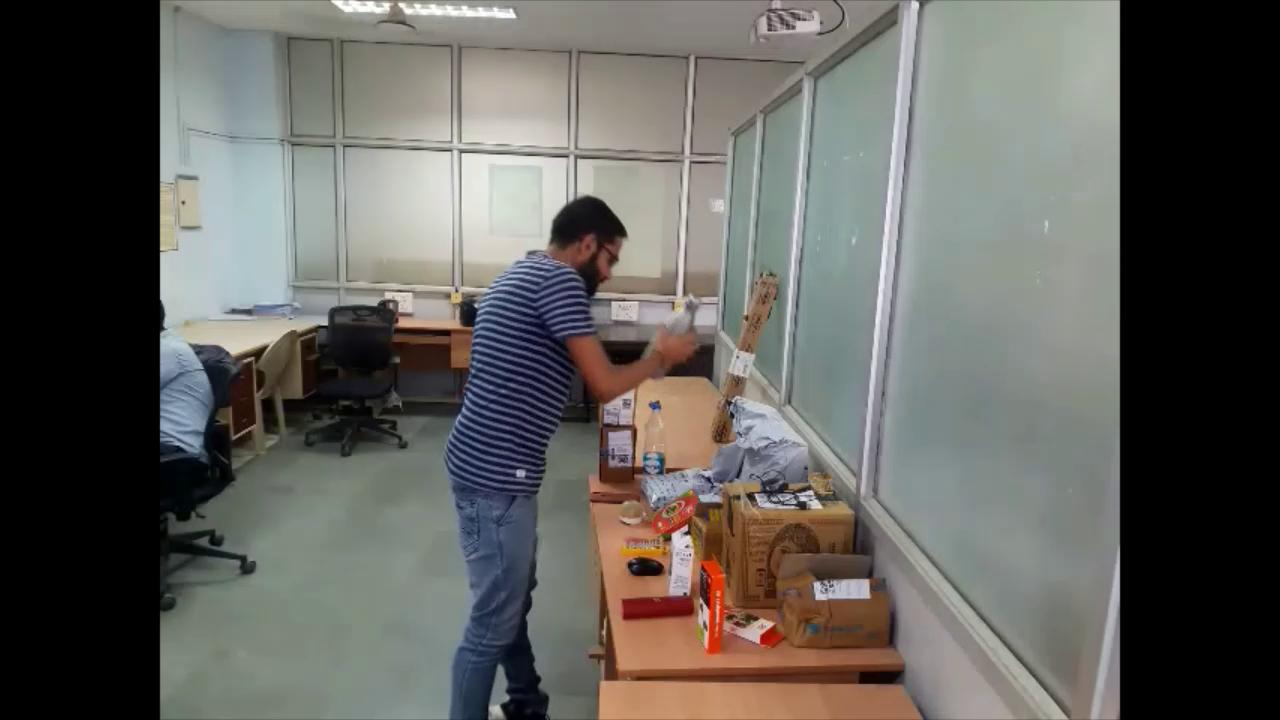Normal: (439, 166, 703, 720)
